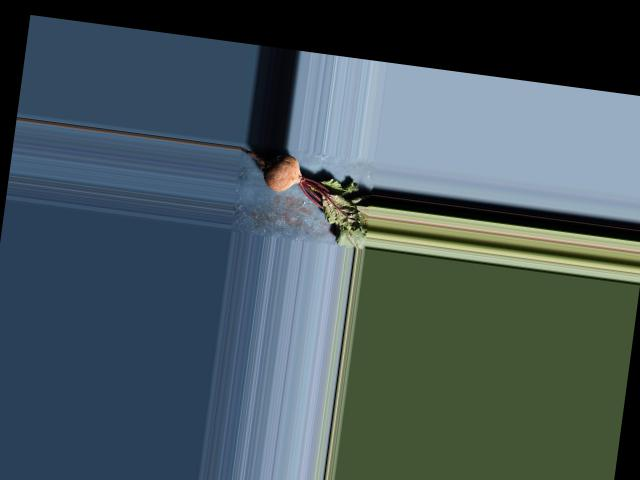beet: (230, 147, 377, 249)
